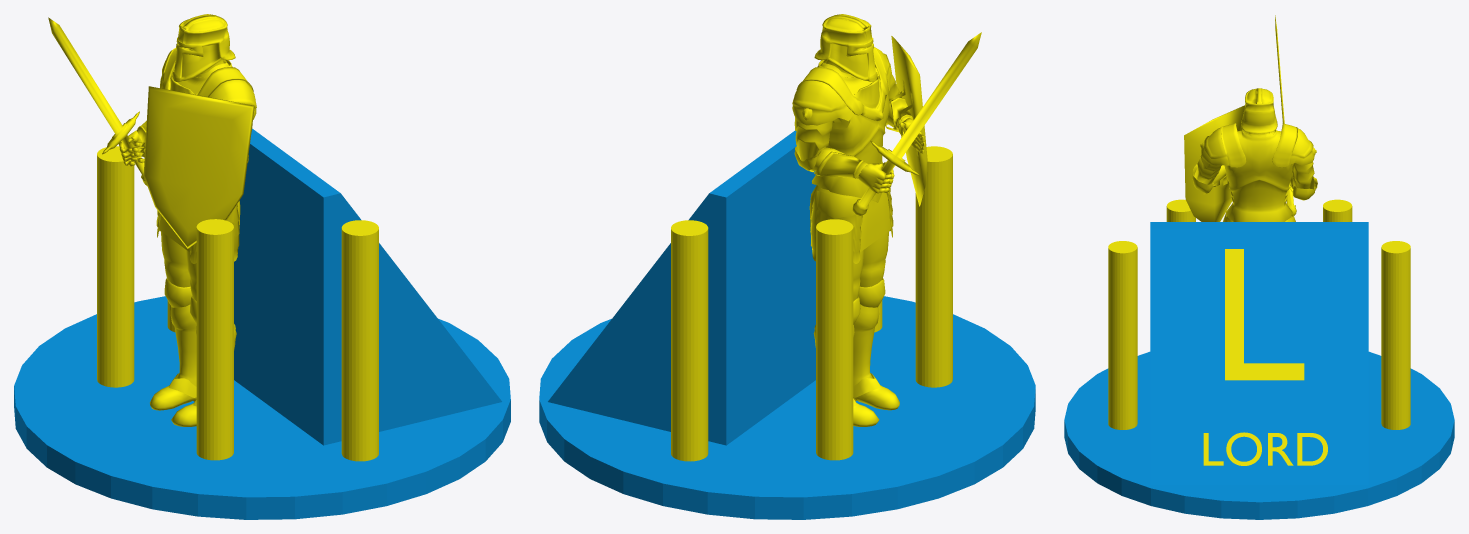
Rendered from TCLord.fbx.
3 views of the same model, side by side, from view 1: azimuth 30°, elevation 25°; view 2: azimuth 150°, elevation 25°; view 3: azimuth 270°, elevation 25° (orthographic). The views are drawn at different scales.
Parts seen in each view (by area): view 1: Lord; view 2: Lord; view 3: Lord.
Part boxes in pixels (x1=…): Lord: x1=14, y1=14, x2=510, y2=519; Lord: x1=539, y1=14, x2=1035, y2=519; Lord: x1=1064, y1=15, x2=1454, y2=519.
Size of the model in its own units: 180 by 176 by 180.
